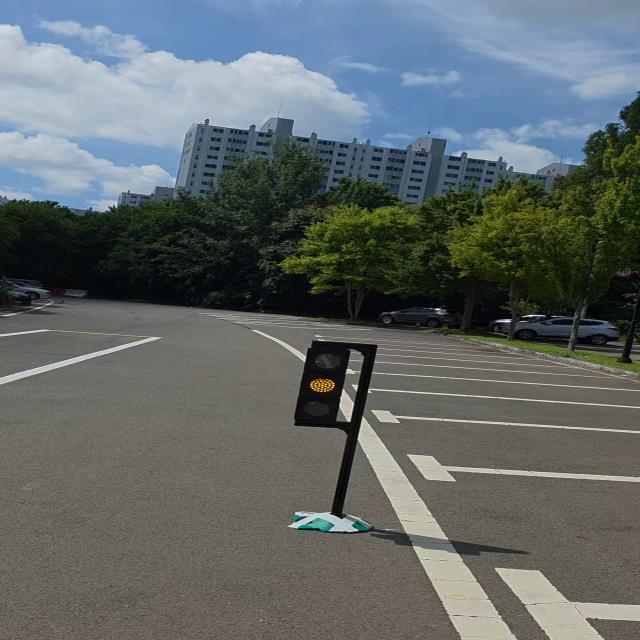yellow: (284, 337, 362, 429)
